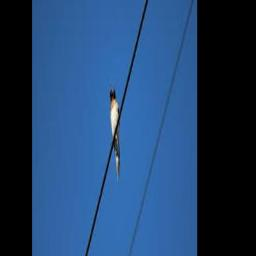Swallow: (110, 87, 121, 180)
